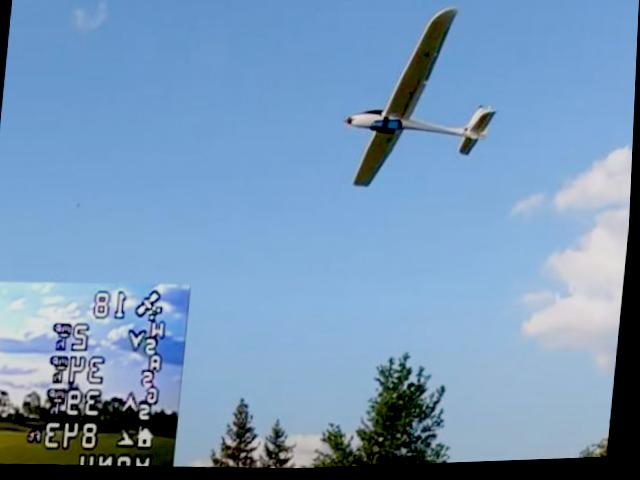iha: (338, 3, 507, 201)
